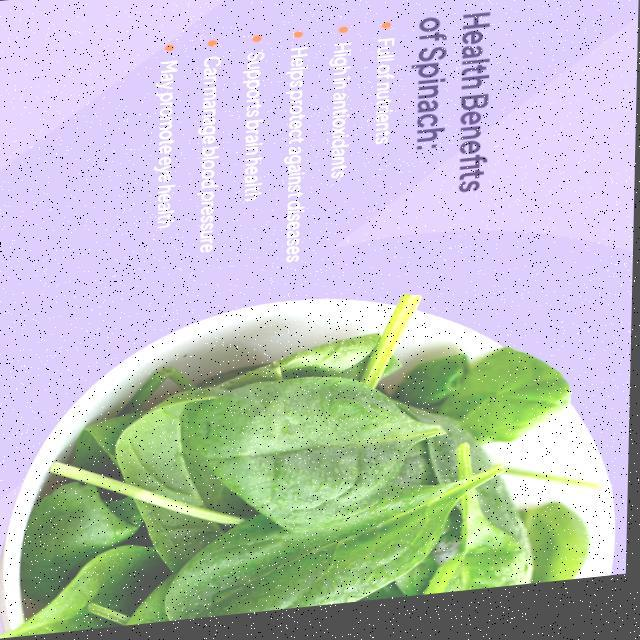Spinach: (0, 296, 619, 640)
